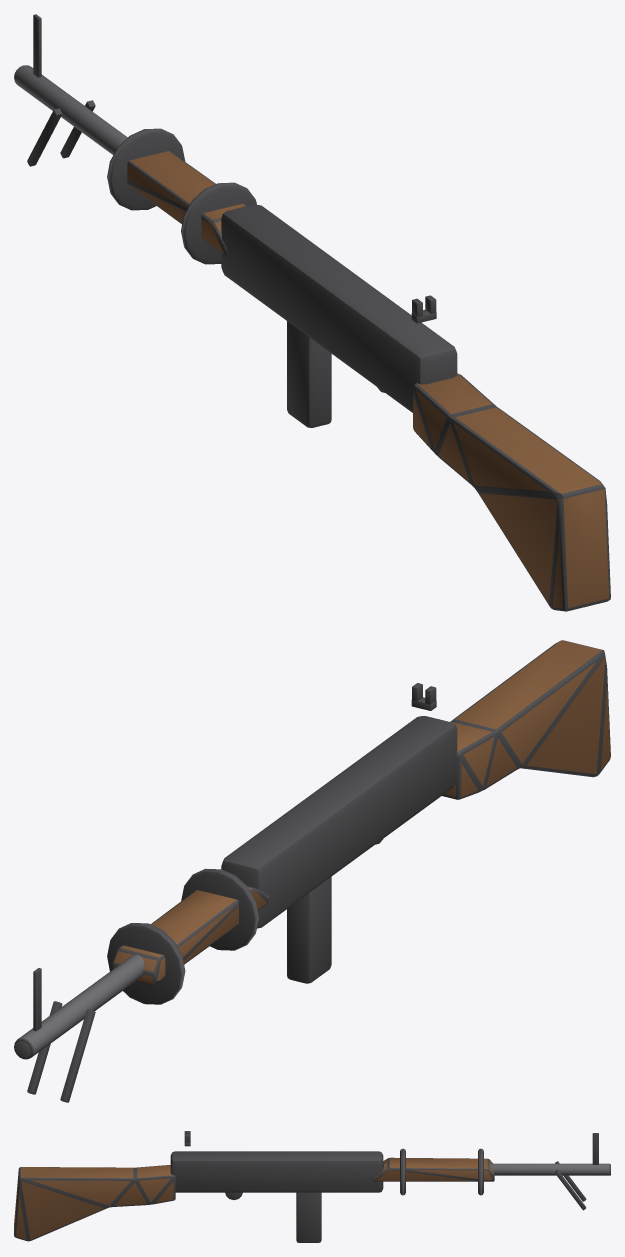
File: bar.glb
3 renders of one model, top to bottom at view 1: azimuth 30°, elevation 25°; view 2: azimuth 150°, elevation 25°; view 3: azimuth 270°, elevation 25°, orthographic. The views are drawn at different scales.
Visible parts, largest first — view 1: bar_LOD0; view 2: bar_LOD0; view 3: bar_LOD0.
Part boxes in pixels (x1,y1,x2,y2): bar_LOD0: (14, 14, 610, 611); bar_LOD0: (14, 640, 610, 1102); bar_LOD0: (14, 1131, 610, 1242).
Bounding box in the file's own units: 0.093 × 0.2345 × 1.18.
